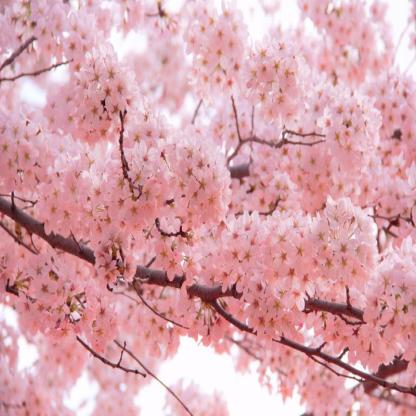Someiyoshino: (1, 2, 414, 414)
